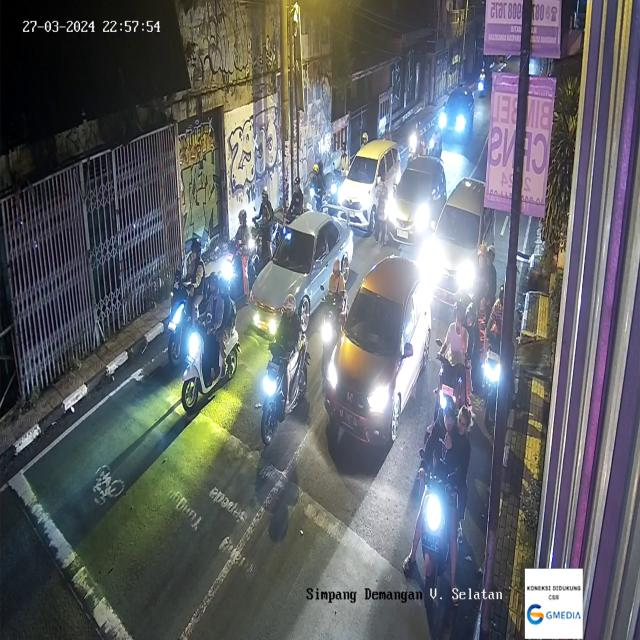car: (326, 253, 428, 438), (250, 215, 357, 333), (428, 178, 500, 311), (340, 142, 404, 231), (393, 159, 448, 239), (441, 86, 479, 148)
motorcycle: (411, 399, 473, 620), (258, 292, 310, 438), (184, 272, 234, 411), (169, 241, 210, 363), (435, 288, 473, 419), (222, 210, 254, 296), (321, 253, 346, 360), (251, 178, 278, 268), (472, 235, 495, 334), (308, 166, 325, 216)
